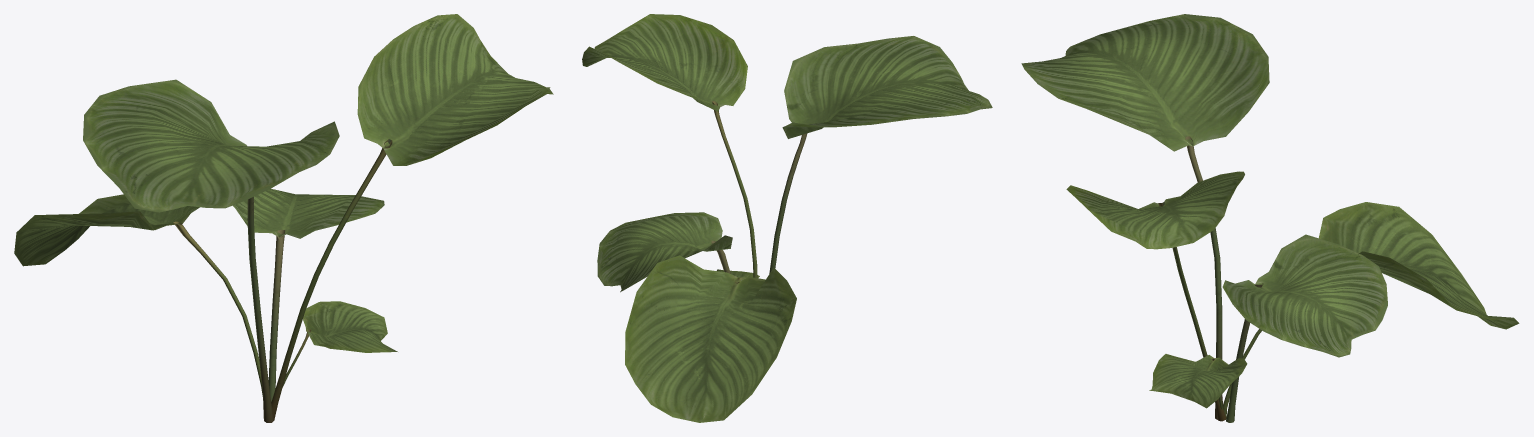
The model's file is Vine b LOD0.fbx.
3 renders of one model, left to right at view 1: azimuth 30°, elevation 25°; view 2: azimuth 150°, elevation 25°; view 3: azimuth 270°, elevation 25°, orthographic. The views are drawn at different scales.
Visible parts, largest first — view 1: calathea_orbifolia_01_c; view 2: calathea_orbifolia_01_c; view 3: calathea_orbifolia_01_c.
Boxes of the visible parts, x1,y1,x2,y2 form: calathea_orbifolia_01_c: (14, 14, 553, 422); calathea_orbifolia_01_c: (582, 14, 992, 422); calathea_orbifolia_01_c: (1021, 14, 1519, 422).
Size of the model in its own units: 36.64 by 27.38 by 38.53.
